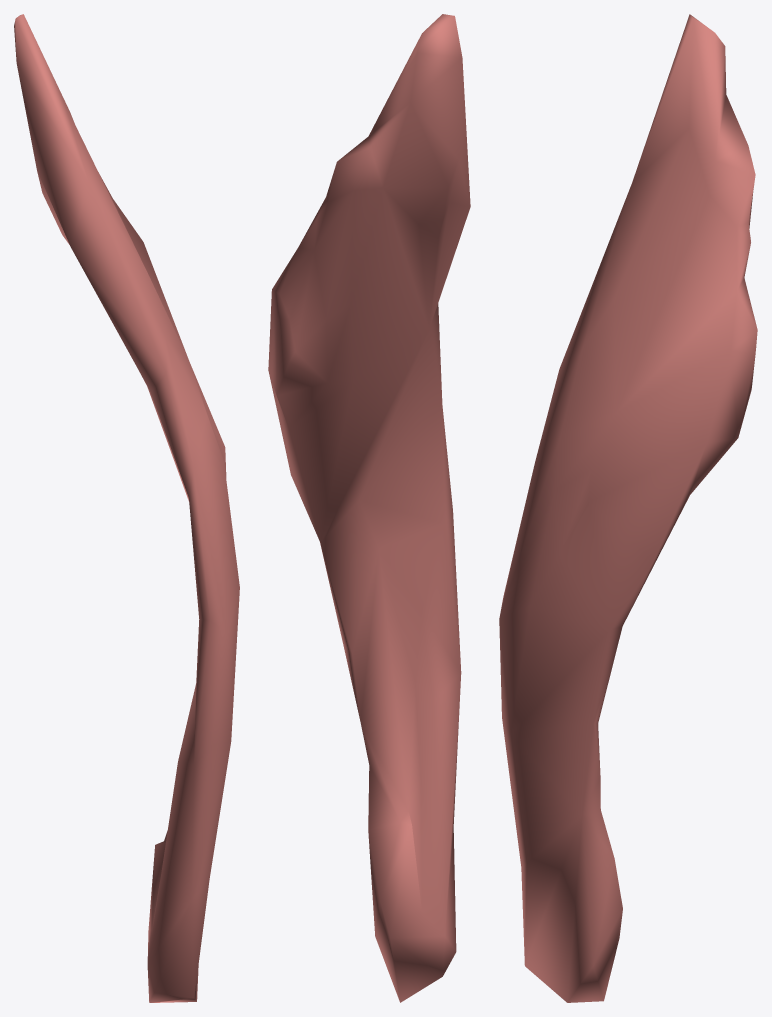
The picture shows the model from 3 angles, left to right: view 1: azimuth 30°, elevation 25°; view 2: azimuth 150°, elevation 25°; view 3: azimuth 270°, elevation 25°; orthographic projection. The views are drawn at different scales.
Visible parts, largest first — view 1: ZA_1c5d1e7d5c294aaf; view 2: ZA_1c5d1e7d5c294aaf; view 3: ZA_1c5d1e7d5c294aaf.
Boxes of the visible parts, x1,y1,x2,y2 form: ZA_1c5d1e7d5c294aaf: (14,14,239,1002); ZA_1c5d1e7d5c294aaf: (268,14,470,1002); ZA_1c5d1e7d5c294aaf: (499,14,757,1002).
Size of the model in its own units: 0.00545 by 0.0291 by 0.00723.
